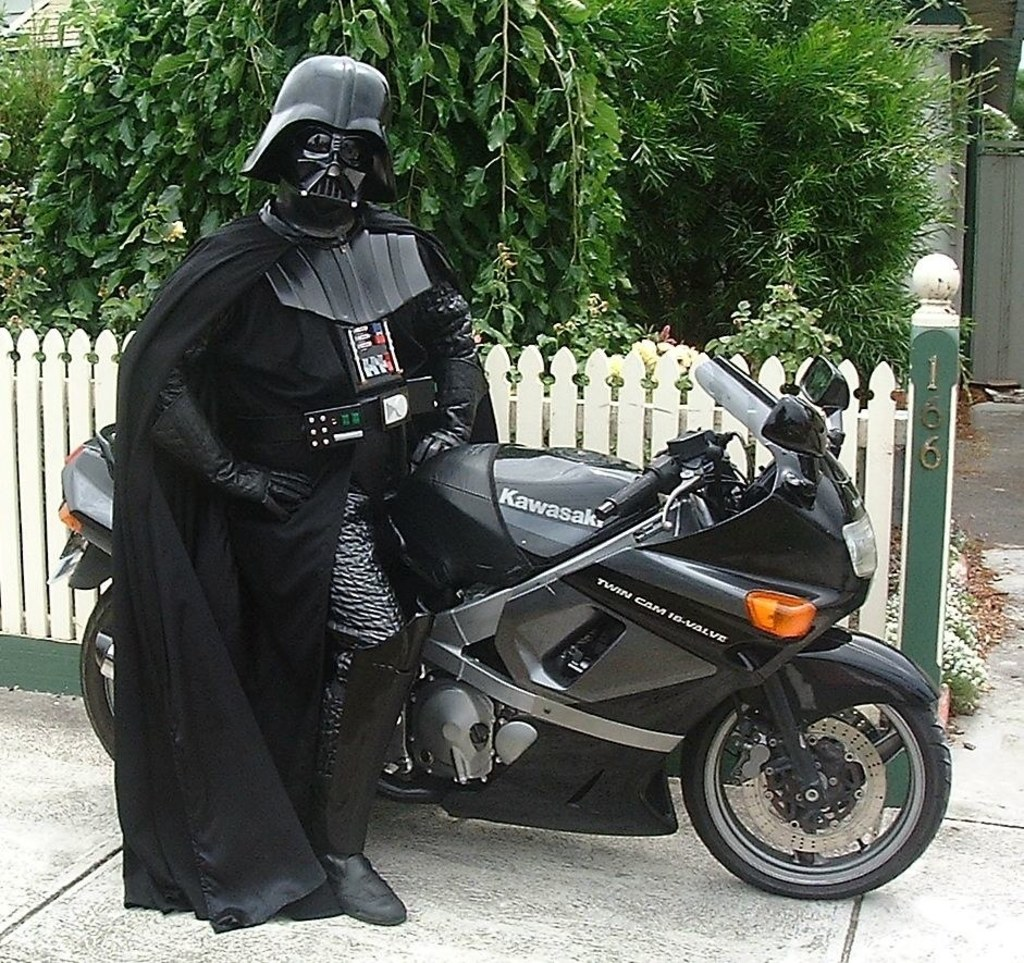Motorcycle: (48, 348, 948, 907)
